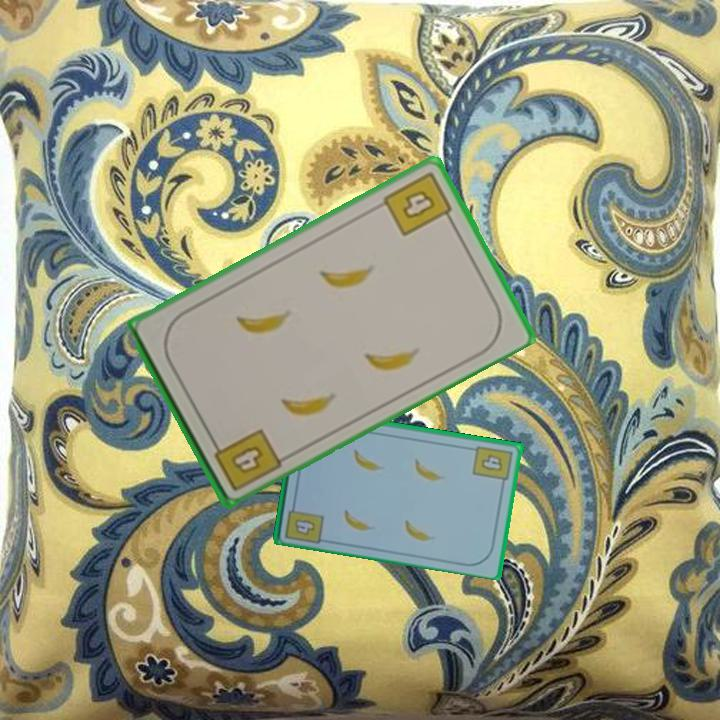4b: (379, 167, 458, 239), (207, 424, 284, 494), (281, 497, 326, 546), (470, 442, 516, 489)
